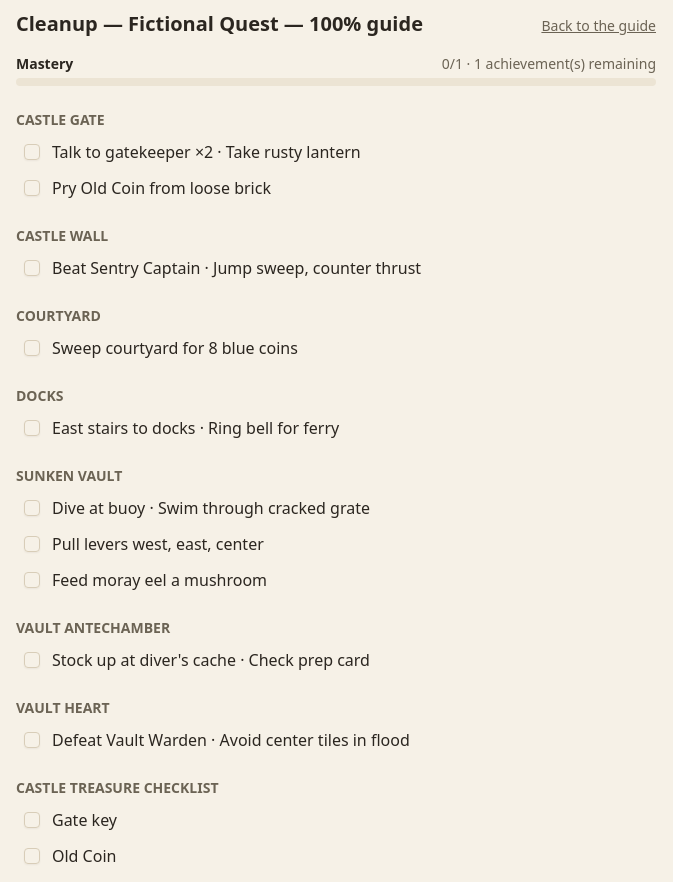
it: cleanup view (S4, FR-B4/P7) › lists remaining tasks with a mastery bar and ticks them off
Expected: the text "Mastery" is shown, [16,54,73,74]
Click the checkbox named "Talk to gatekeeper" at (32, 152), box [24,144,40,160]
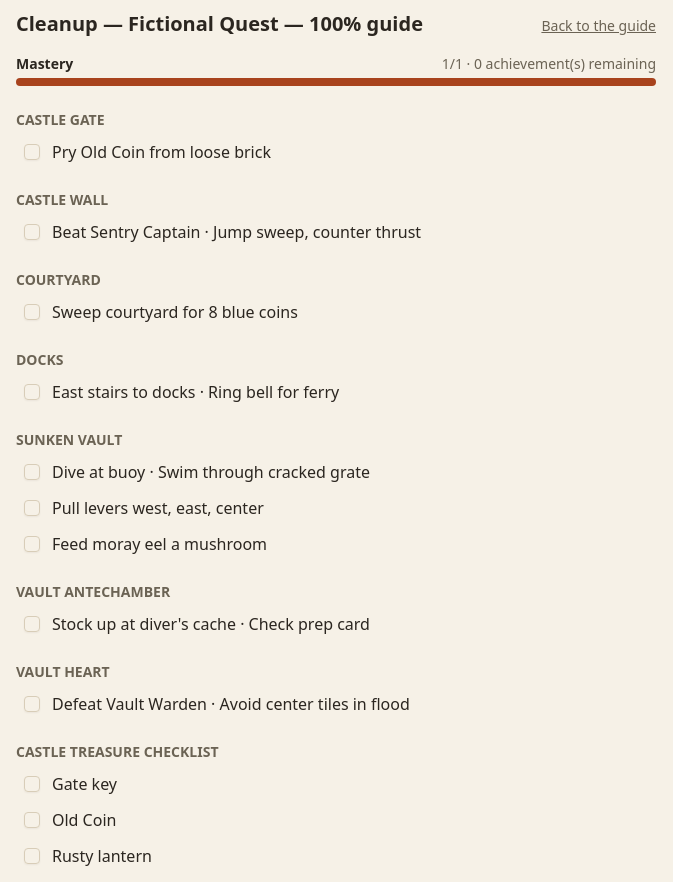
Expected: the text "Talk to gatekeeper" is gone
